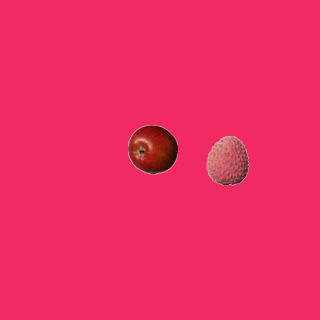Apple Braeburn: (127, 124, 177, 174)
Lychee: (202, 135, 252, 185)
